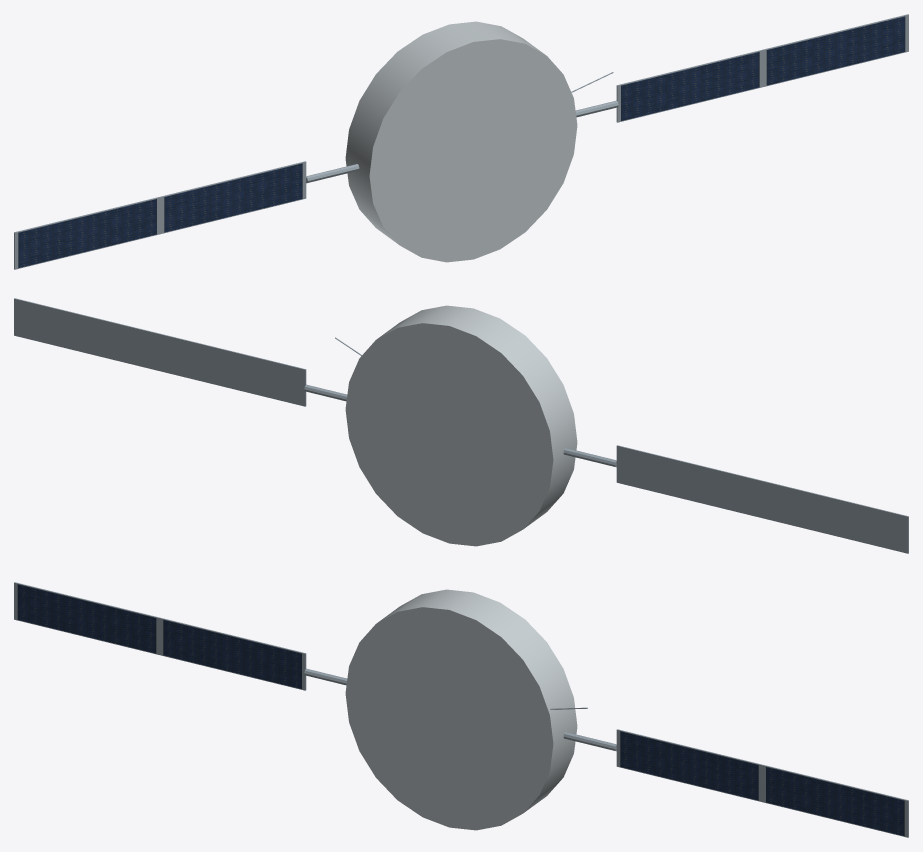
Rendered from ref-microstar-23545.glb.
3 renders of one model, top to bottom at view 1: azimuth 30°, elevation 25°; view 2: azimuth 150°, elevation 25°; view 3: azimuth 330°, elevation 25°, orthographic.
Parts seen in each view (by area): view 1: Spacecraft body, Photovoltaic laminates (×4), Array frame (×4); view 2: Spacecraft body, Array frame (×4); view 3: Spacecraft body, Photovoltaic laminates (×4), Array frame (×4).
Boxes of the visible parts, x1,y1,x2,y2 form: Spacecraft body: (345,21,577,262); Photovoltaic laminates (×4): (18,16,905,267); Array frame (×4): (14,14,908,269); Spacecraft body: (345,305,577,546); Array frame (×4): (14,298,908,553); Spacecraft body: (345,589,577,830); Photovoltaic laminates (×4): (17,584,904,835); Array frame (×4): (14,582,908,837).
Bounding box in the file's own units: 4.3 × 1 × 0.2083.
3 materials, 1 textured.
